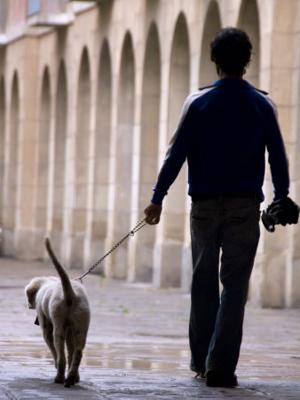person: (146, 31, 291, 389)
